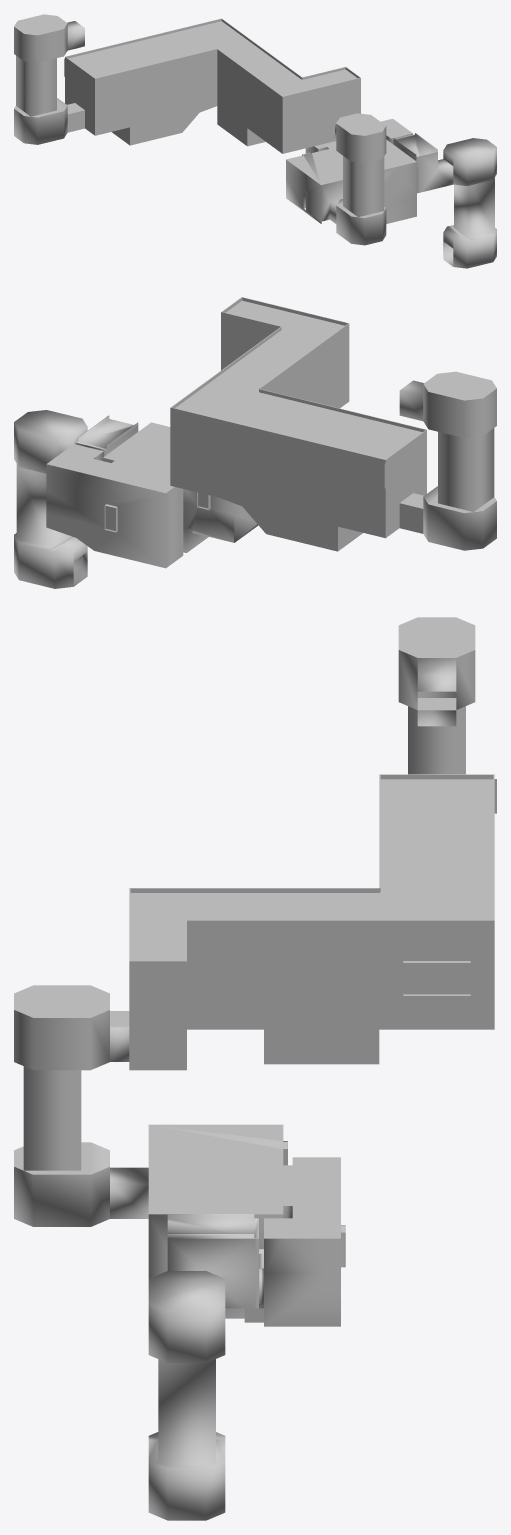
The model's file is testchmb_a_01.fbx.
The picture shows the model from 3 angles, top to bottom: view 1: azimuth 30°, elevation 25°; view 2: azimuth 150°, elevation 25°; view 3: azimuth 270°, elevation 25°; orthographic projection. The views are drawn at different scales.
Visible parts, largest first — view 1: world_geometry.001, Room002, Lift003, Lift002, Lift001, Room001, Room001.001, Room002_noportal; view 2: world_geometry.001, Room002, Room001, Lift003, Lift001, Room001.001, Room001_noportal, Room002_noportal; view 3: world_geometry.001, Room002, Lift002, Room001.001, Lift001, Room001, Lift003, window_glass_noportal.
Part boxes in pixels (<box>): world_geometry.001: <box>65,18,360,153</box>; Room002: <box>66,19,359,123</box>; Lift003: <box>14,14,84,144</box>; Lift002: <box>335,113,386,245</box>; Lift001: <box>443,138,496,268</box>; Room001: <box>286,133,453,223</box>; Room001.001: <box>286,118,437,185</box>; Room002_noportal: <box>112,127,265,146</box>; world_geometry.001: <box>170,297,426,551</box>; Room002: <box>172,297,425,508</box>; Room001: <box>46,423,258,568</box>; Lift003: <box>399,371,496,550</box>; Lift001: <box>14,410,87,588</box>; Room001.001: <box>46,415,174,493</box>; Room001_noportal: <box>179,488,183,557</box>; Room002_noportal: <box>338,526,362,551</box>; world_geometry.001: <box>129,774,494,1070</box>; Room002: <box>110,775,493,1027</box>; Lift002: <box>14,985,129,1226</box>; Room001.001: <box>148,1124,340,1238</box>; Lift001: <box>148,1271,225,1520</box>; Room001: <box>110,1141,345,1326</box>; Lift003: <box>398,617,475,774</box>; window_glass_noportal: <box>403,963,470,994</box>.
Size of the model in its own units: 5700 by 3063 by 3663.
